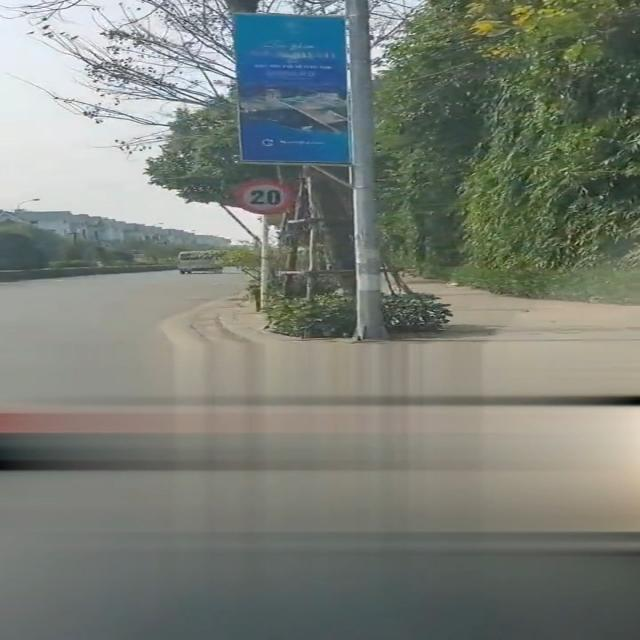127-toc-do-toi-da-20: (234, 180, 295, 215)
